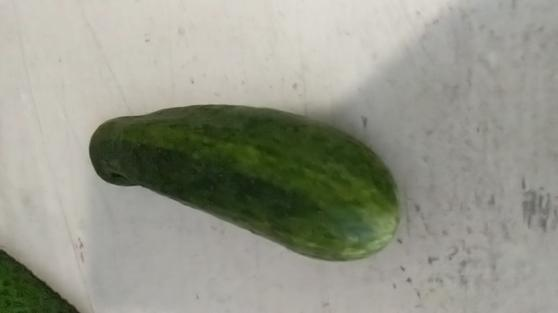cucumber: (90, 102, 400, 263)
